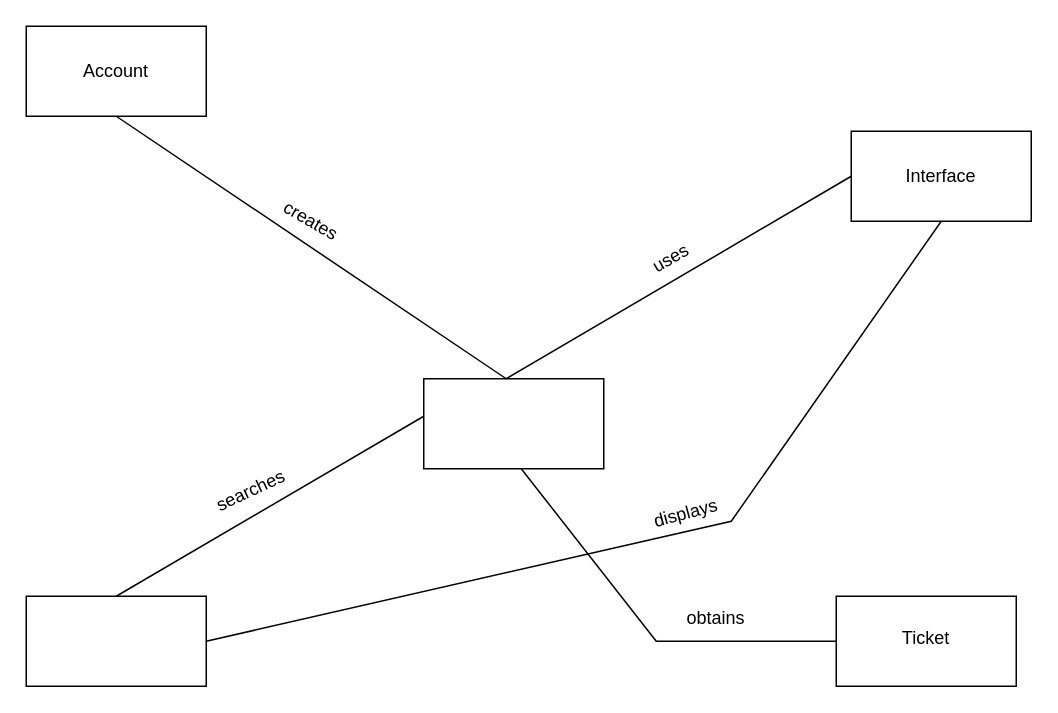
The diagram is 1058 pixels wide and 713 high, and some of its shapes have lost their labels. The centre of each missing label's shape, as x and y in pixels:
"Events" goes at point 115,640.
"User" goes at point 513,423.
